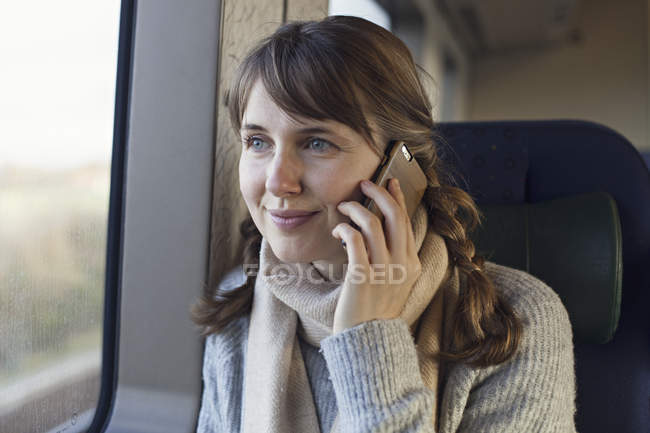phone: (332, 154, 428, 276)
talk: (232, 116, 447, 323)
